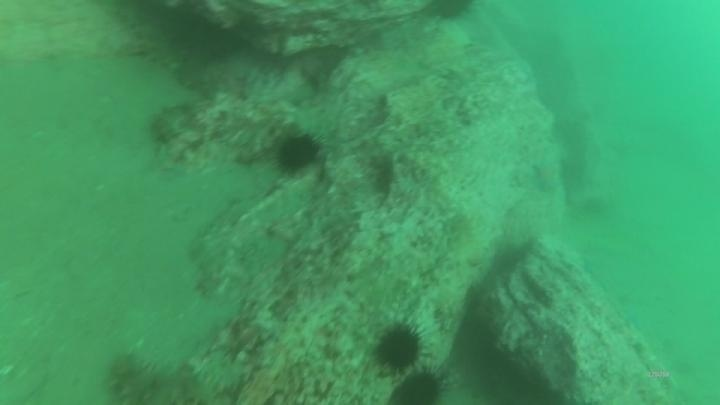echinus: (371, 320, 426, 375), (389, 366, 448, 405), (272, 131, 322, 176), (420, 0, 479, 25)
holothurian: (105, 350, 223, 405), (115, 19, 190, 74)
starfish: (528, 158, 563, 196)
